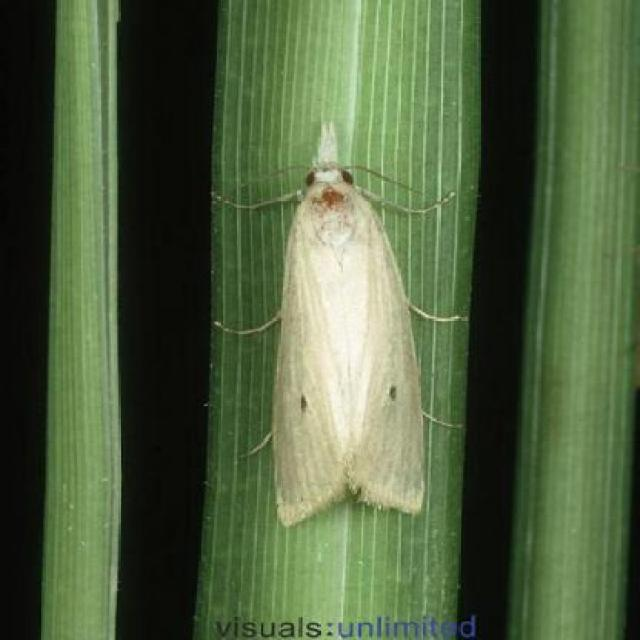stem-borer: (228, 116, 448, 535)
